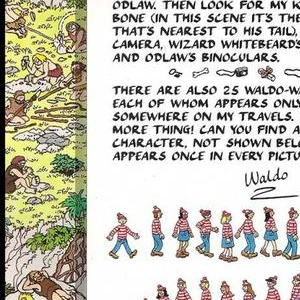Wenda: (14, 136, 49, 164)
